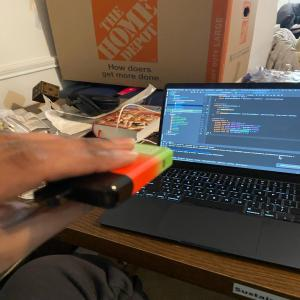Swift-E-Ciggirate: (34, 138, 177, 218)
